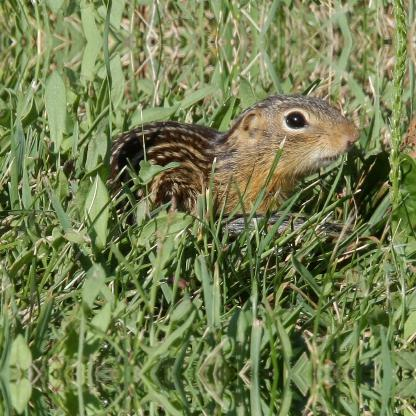Squirrel: (107, 92, 357, 288)
